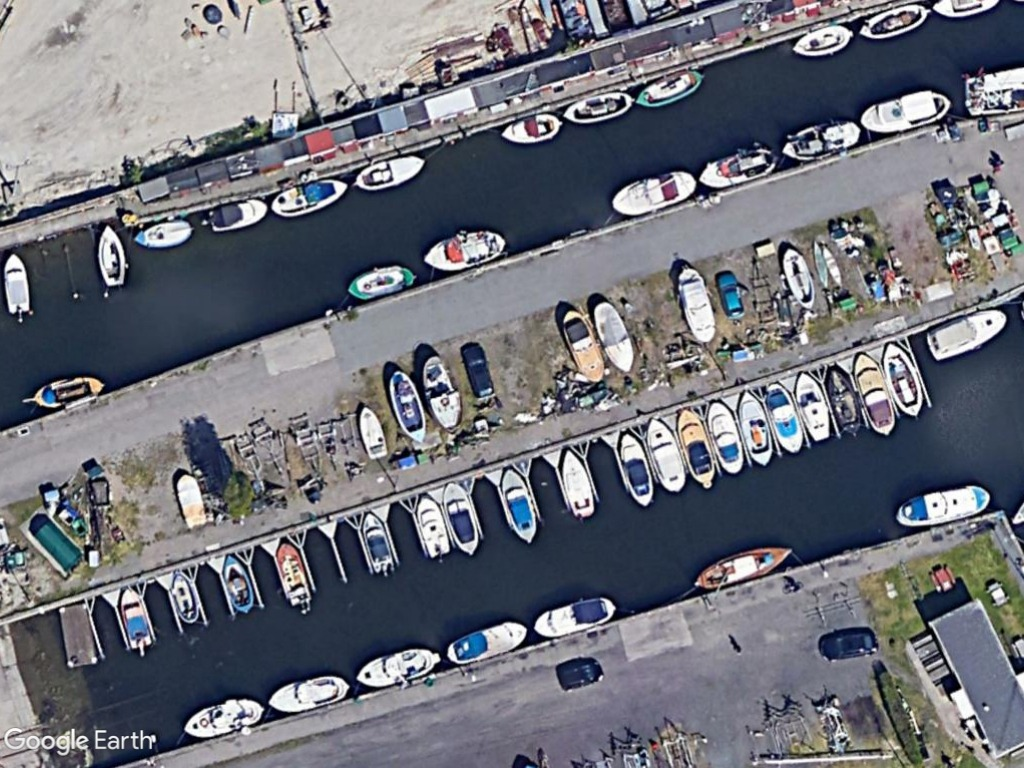boat: (687, 544, 795, 594), (923, 302, 1010, 364), (890, 479, 992, 531), (604, 165, 700, 219), (444, 613, 528, 672), (530, 592, 619, 644), (421, 225, 512, 275), (694, 139, 781, 191), (857, 90, 953, 137), (416, 350, 466, 438), (263, 671, 353, 719), (877, 336, 927, 422), (778, 114, 863, 164), (852, 348, 899, 438), (671, 399, 718, 489), (591, 294, 641, 378), (352, 644, 442, 690), (560, 304, 608, 388), (677, 260, 721, 348), (617, 424, 660, 514), (269, 171, 349, 219), (183, 696, 266, 742), (646, 410, 689, 496), (791, 363, 835, 447), (735, 384, 777, 472), (704, 394, 747, 478), (385, 364, 430, 444), (30, 368, 108, 414), (632, 65, 708, 112), (439, 478, 483, 559), (271, 538, 316, 615), (350, 150, 428, 194), (764, 378, 807, 457), (344, 258, 416, 305), (500, 462, 539, 547), (562, 84, 637, 126), (203, 190, 271, 236), (826, 363, 866, 440), (416, 488, 456, 565), (856, 1, 931, 41), (92, 219, 133, 291), (560, 446, 598, 522), (360, 505, 399, 578), (780, 242, 820, 312), (118, 583, 157, 654), (219, 549, 258, 619), (497, 109, 567, 147), (130, 214, 197, 253), (786, 22, 856, 58), (356, 403, 394, 465), (168, 568, 206, 630), (0, 246, 30, 318)
car: (458, 339, 499, 405), (815, 628, 880, 664), (555, 654, 607, 694), (713, 267, 749, 323)
